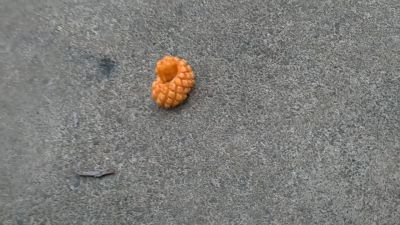eggs: (150, 53, 197, 111)
